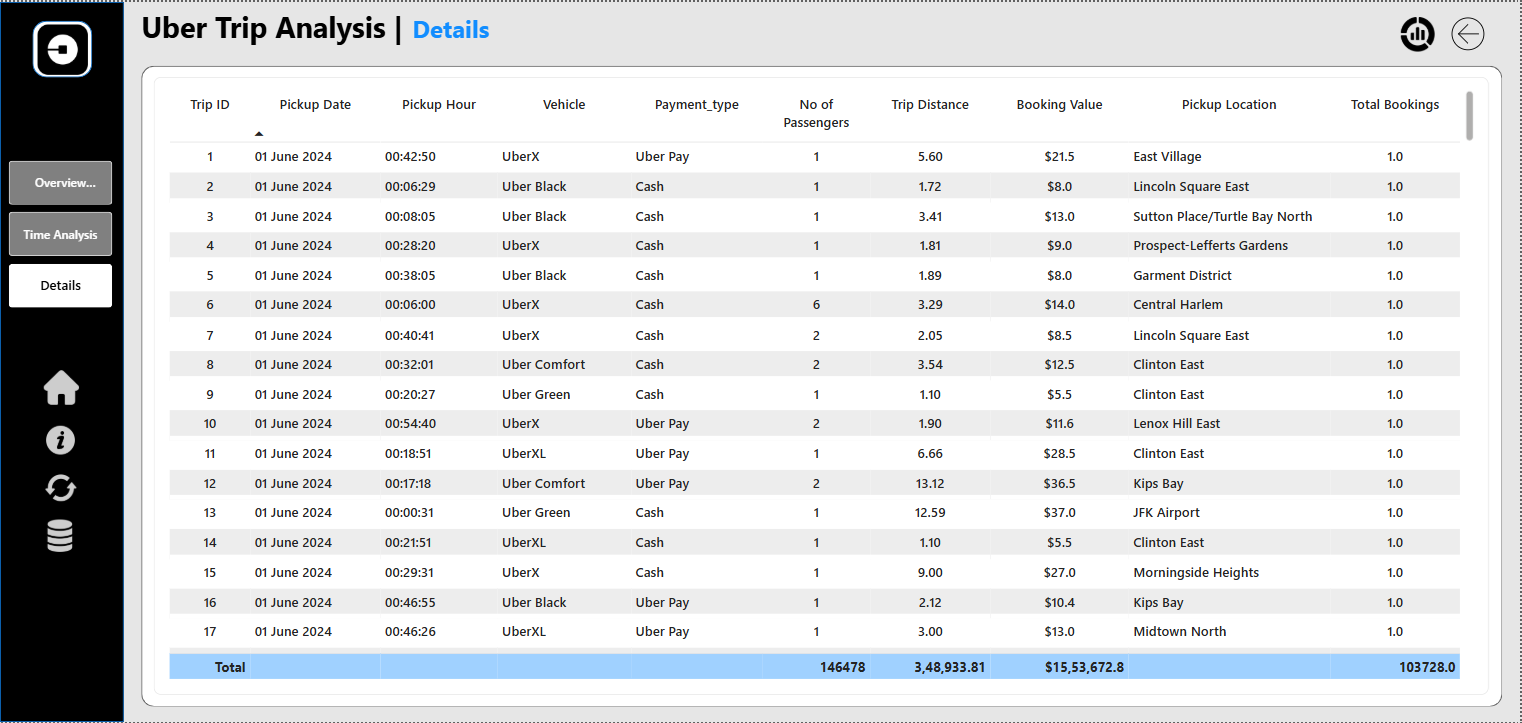

What the dashboard file says about the page in this screenshot:
{"tool":"powerbi","page":{"name":"Details","canvas":[1690,800],"ordinal":2},"visuals":[{"type":"shape","box":[0,0,137.5,800],"z":0},{"type":"textbox","box":[157.5,0,495.9,58.9],"z":1000},{"type":"shape","box":[157.5,71.2,1512.3,712.3],"z":2000},{"type":"shape","box":[36.1,20.8,66.3,62.9],"z":3000},{"type":"image","box":[9.7,25,120,56],"z":4000},{"type":"image","box":[48.6,408.3,38.9,40.3],"z":5000},{"type":"image","box":[47.2,470.8,40,32],"z":6000},{"type":"image","box":[41.7,522.2,52,35],"z":7000},{"type":"image","box":[33.3,575,66.3,36],"z":8000},{"type":"pageNavigator","box":[9.6,176.7,115.1,164.4],"z":9000},{"type":"tableEx","fields":{"Values":["Trip Details.Trip ID","Trip Details.Pickup Date","Trip Details.Pickup Hour (HH MM SS)","Trip Details.Vehicle","Trip Details.Payment_type","Sum(Trip Details.passenger_count)","Trip Details.Total Trip Distance Measure","Trip Details.Total Booking Value","Location Table.Location","Trip Details.Total Bookings"]},"box":[171.2,83.6,1483.6,686.3],"z":10000},{"type":"actionButton","box":[1591.8,0,78.1,71.2],"z":11000},{"type":"image","box":[1543.8,16.4,61.6,38.4],"z":12000}]}

Visuals, with their boxes on the page's 1690x800 design canvas (x1, y1, x2, y2). These are canvas units, not pixel positions in the 1522x723 screenshot, which may show the page scaled, cropped or inside an application window:
shape: <bbox>0, 0, 138, 800</bbox>
textbox: <bbox>158, 0, 653, 59</bbox>
shape: <bbox>158, 71, 1670, 784</bbox>
shape: <bbox>36, 21, 102, 84</bbox>
image: <bbox>10, 25, 130, 81</bbox>
image: <bbox>49, 408, 88, 449</bbox>
image: <bbox>47, 471, 87, 503</bbox>
image: <bbox>42, 522, 94, 557</bbox>
image: <bbox>33, 575, 100, 611</bbox>
pageNavigator: <bbox>10, 177, 125, 341</bbox>
tableEx - Trip Details.Trip ID x Trip Details.Pickup Date: <bbox>171, 84, 1655, 770</bbox>
actionButton: <bbox>1592, 0, 1670, 71</bbox>
image: <bbox>1544, 16, 1605, 55</bbox>
